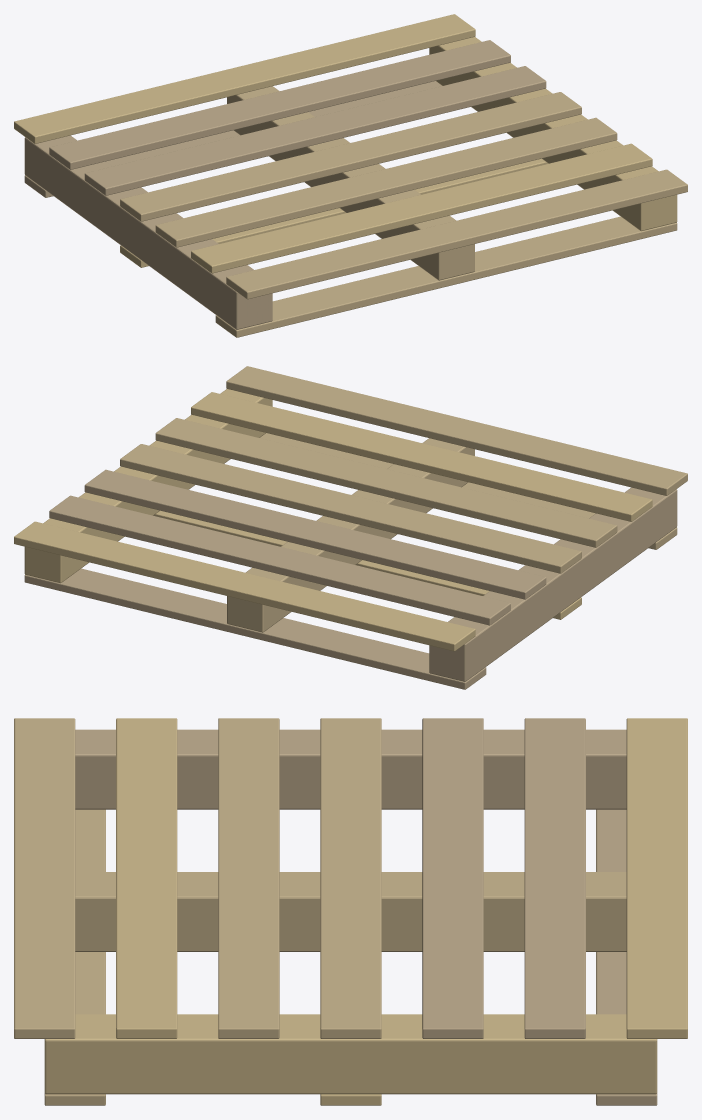
The model's file is pallet.glb.
3 renders of one model, top to bottom at view 1: azimuth 30°, elevation 25°; view 2: azimuth 150°, elevation 25°; view 3: azimuth 270°, elevation 25°, orthographic. The views are drawn at different scales.
Visible parts, largest first — view 1: Pallet; view 2: Pallet; view 3: Pallet.
Part boxes in pixels (x1,y1,x2,y2): Pallet: [14, 14, 687, 337]; Pallet: [14, 366, 687, 689]; Pallet: [14, 718, 687, 1105].
Bounding box in the file's own units: 1.2 × 0.14 × 1.1.
